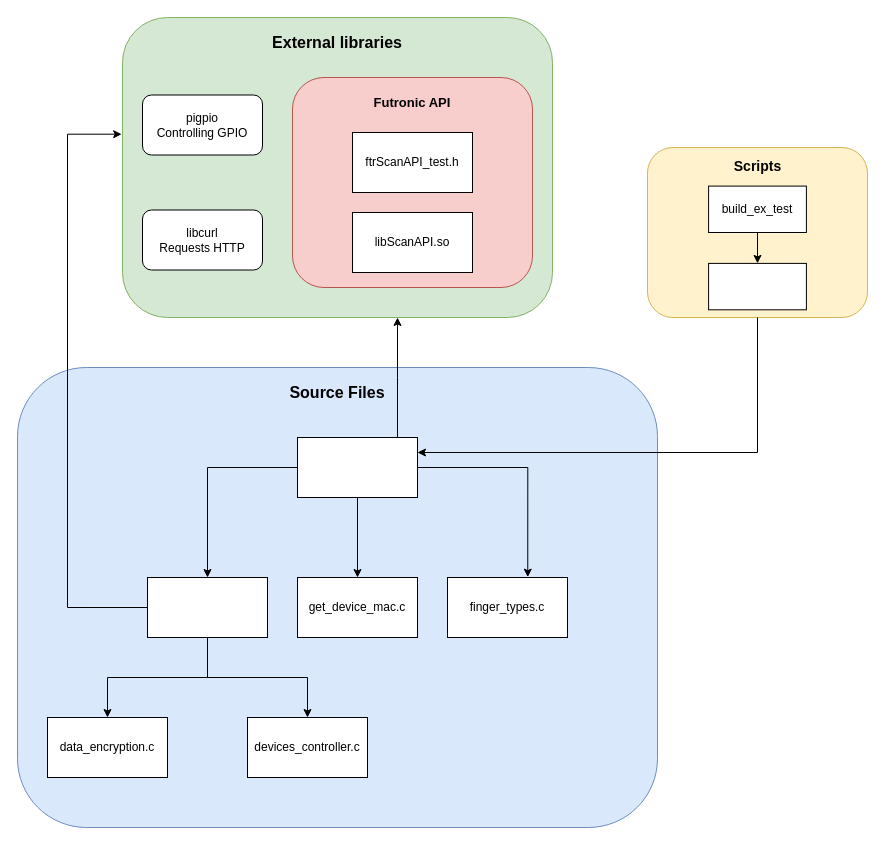
Some shapes in this 885 by 845 pixel diagram are drawn without their labels. Here are the shapes that lost their labels. From the top down, the centre of each, then its label:
At point 757,286: "scan_finger.mak".
At point 357,467: "scan_finger.c (główny program)".
At point 207,607: "send.c".
